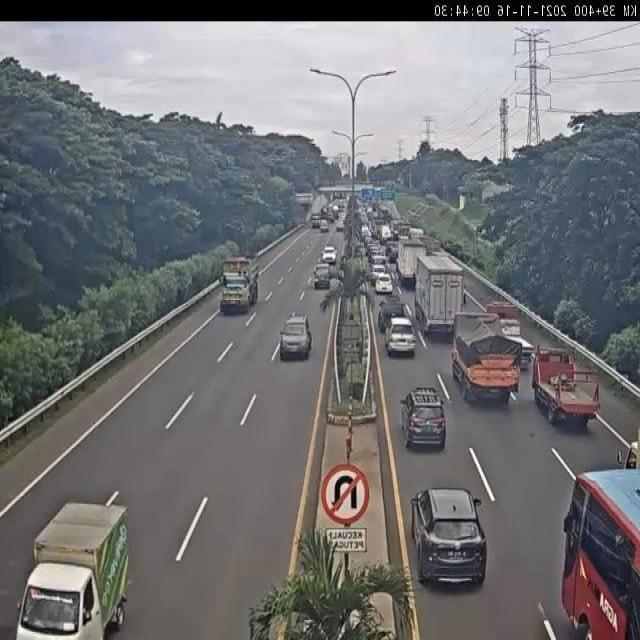Bus: (559, 464, 640, 640)
Car: (410, 486, 488, 586), (400, 387, 446, 451), (279, 313, 312, 361), (384, 315, 416, 357), (377, 298, 407, 334), (375, 274, 393, 294), (371, 264, 386, 284), (322, 246, 337, 264), (320, 220, 329, 233), (336, 219, 345, 231)
Truck: (11, 500, 134, 640), (451, 312, 521, 404), (532, 342, 602, 431), (414, 252, 464, 338), (484, 300, 536, 370), (217, 254, 263, 314), (396, 235, 428, 289), (416, 234, 442, 256), (313, 263, 332, 290), (379, 224, 392, 242), (310, 212, 322, 230)
